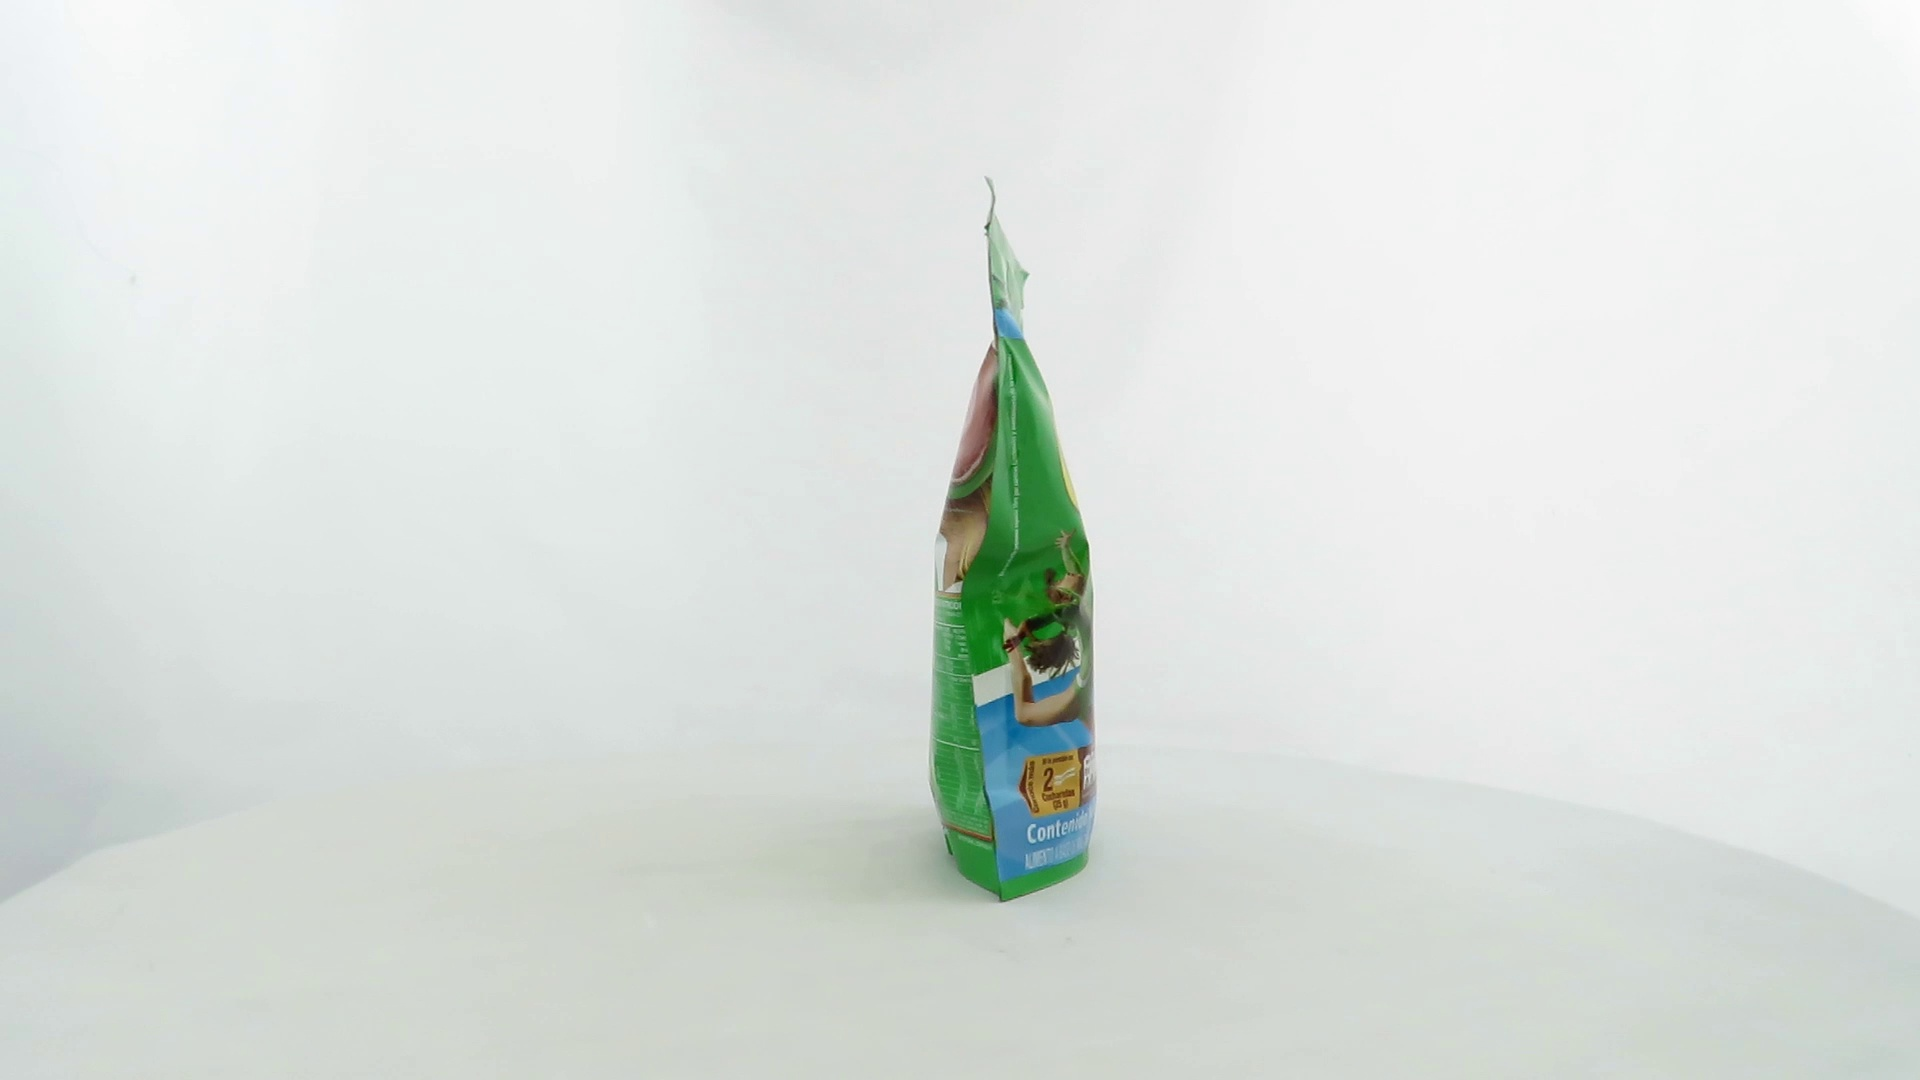COL0170205DYP20000: (923, 170, 1102, 909)
